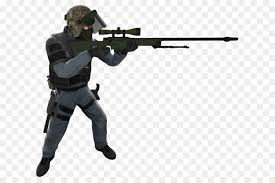gun: (69, 25, 238, 55)
